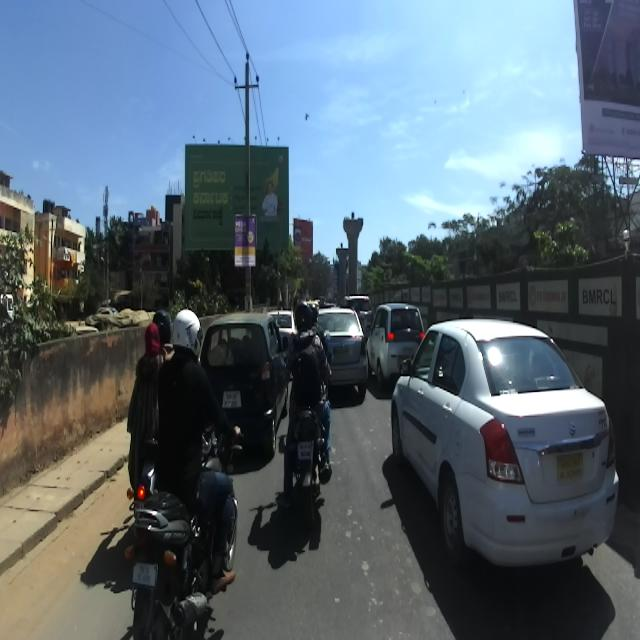car ahead at: (388, 314, 624, 595)
motorcycle ahead at: (118, 489, 209, 640)
